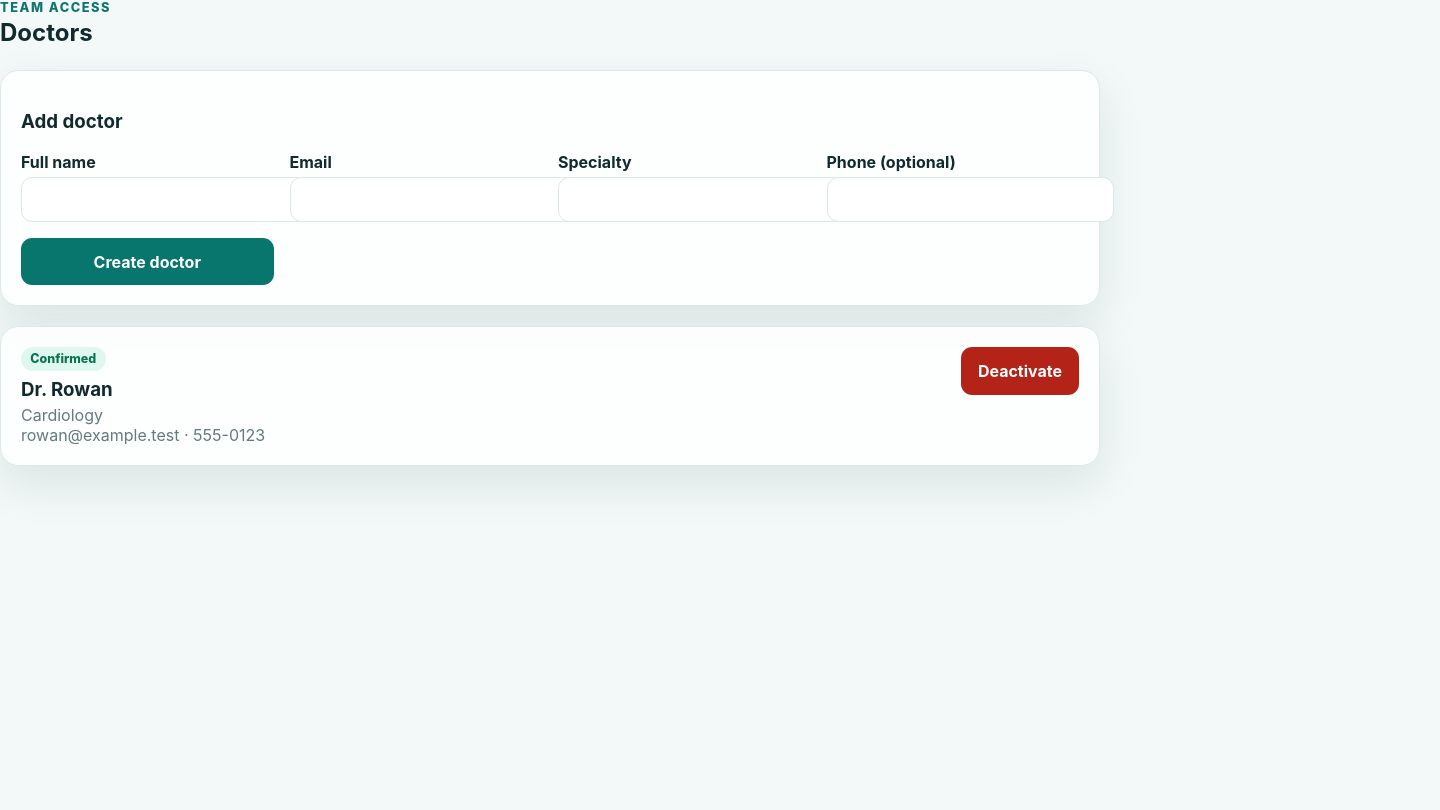
Test: doctor deactivation requires confirmation, prevents duplicates, and refreshes inactive state
Click the button "Deactivate" at [1020, 371], box [961,347,1079,395]
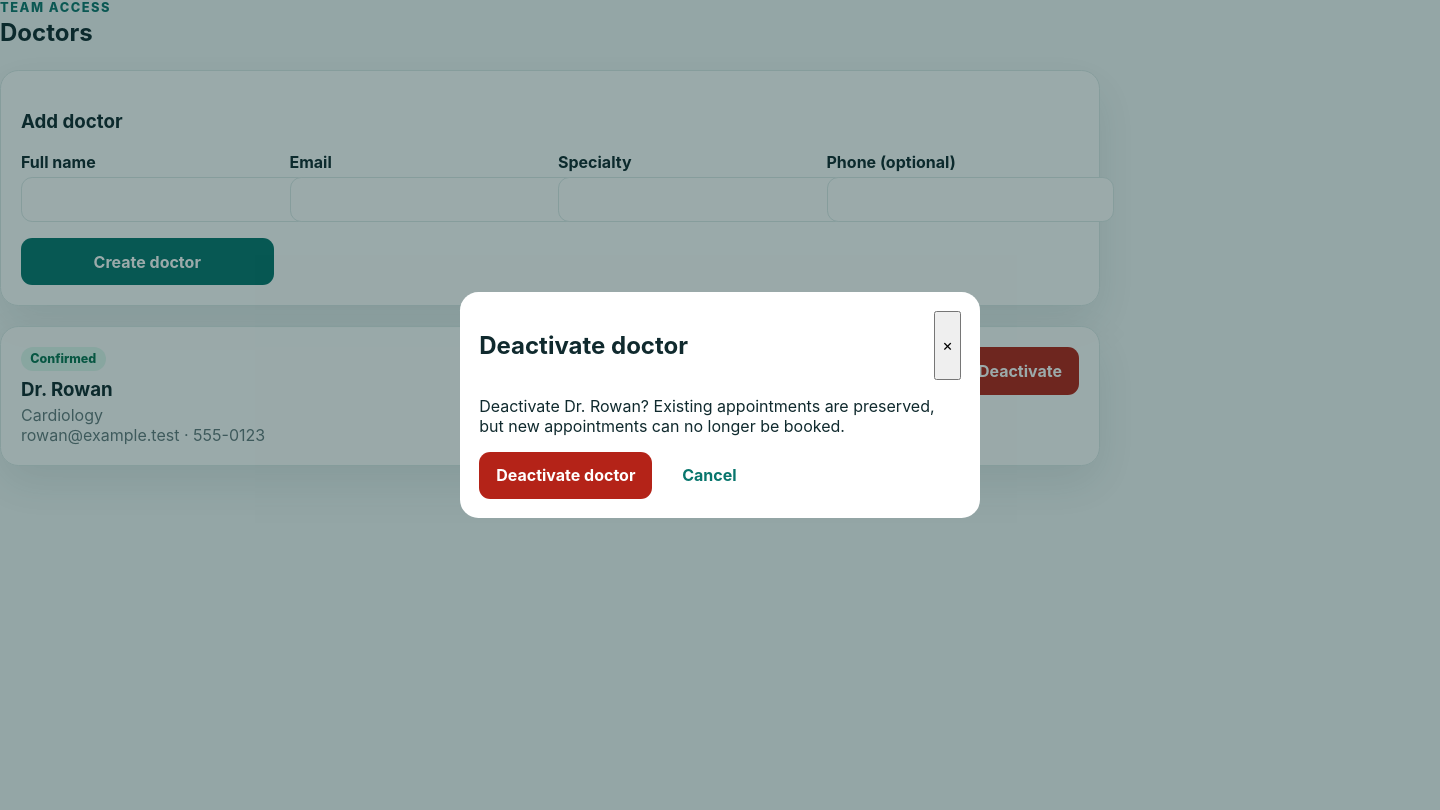
Expected: the dialog "Deactivate doctor" is shown, [460,292,980,518]
Click the button "Deactivate doctor" at [566, 475], box [479,452,652,499]
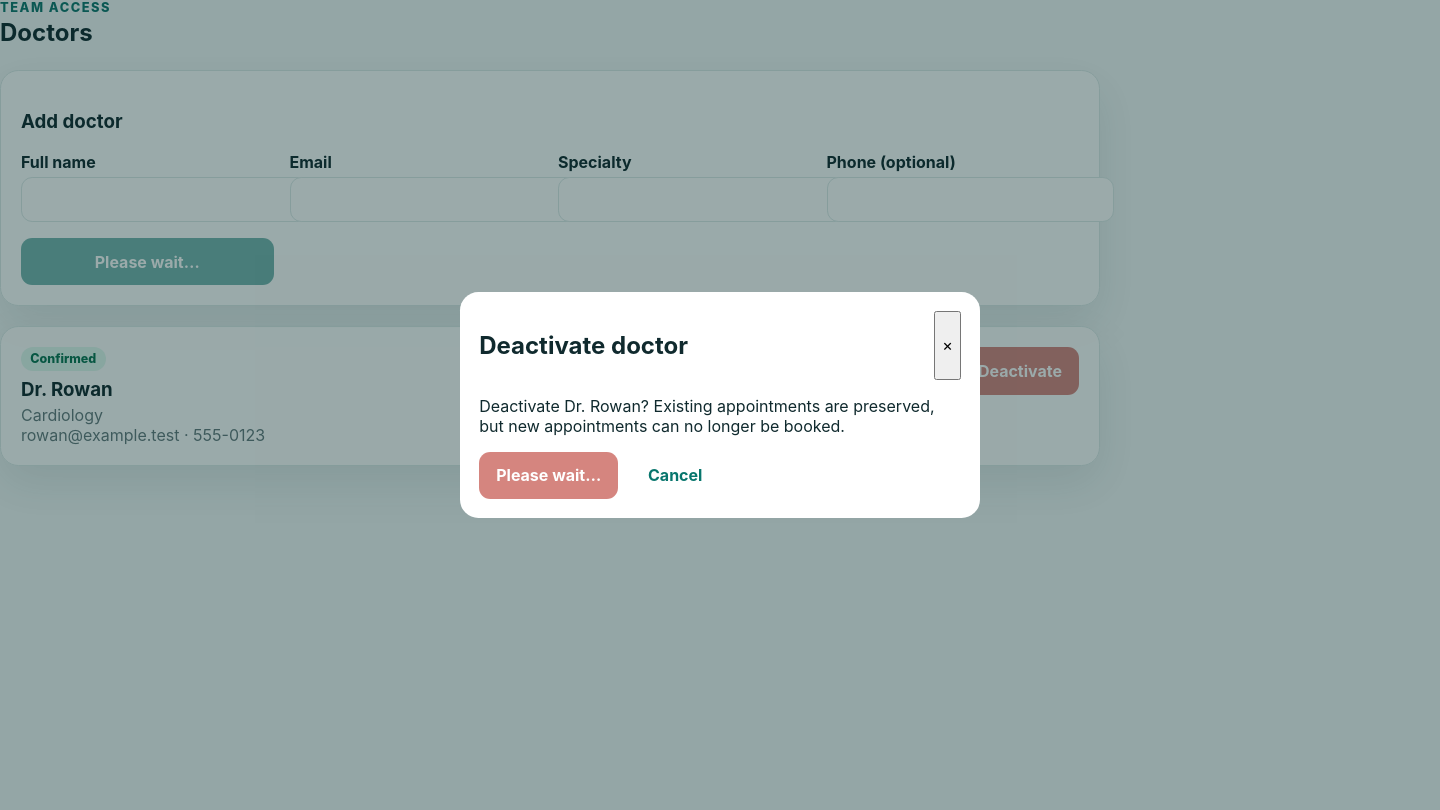
Expected: the button "Please wait…" is disabled
Click the button "Please wait…" at [549, 475], box [479,452,618,499]
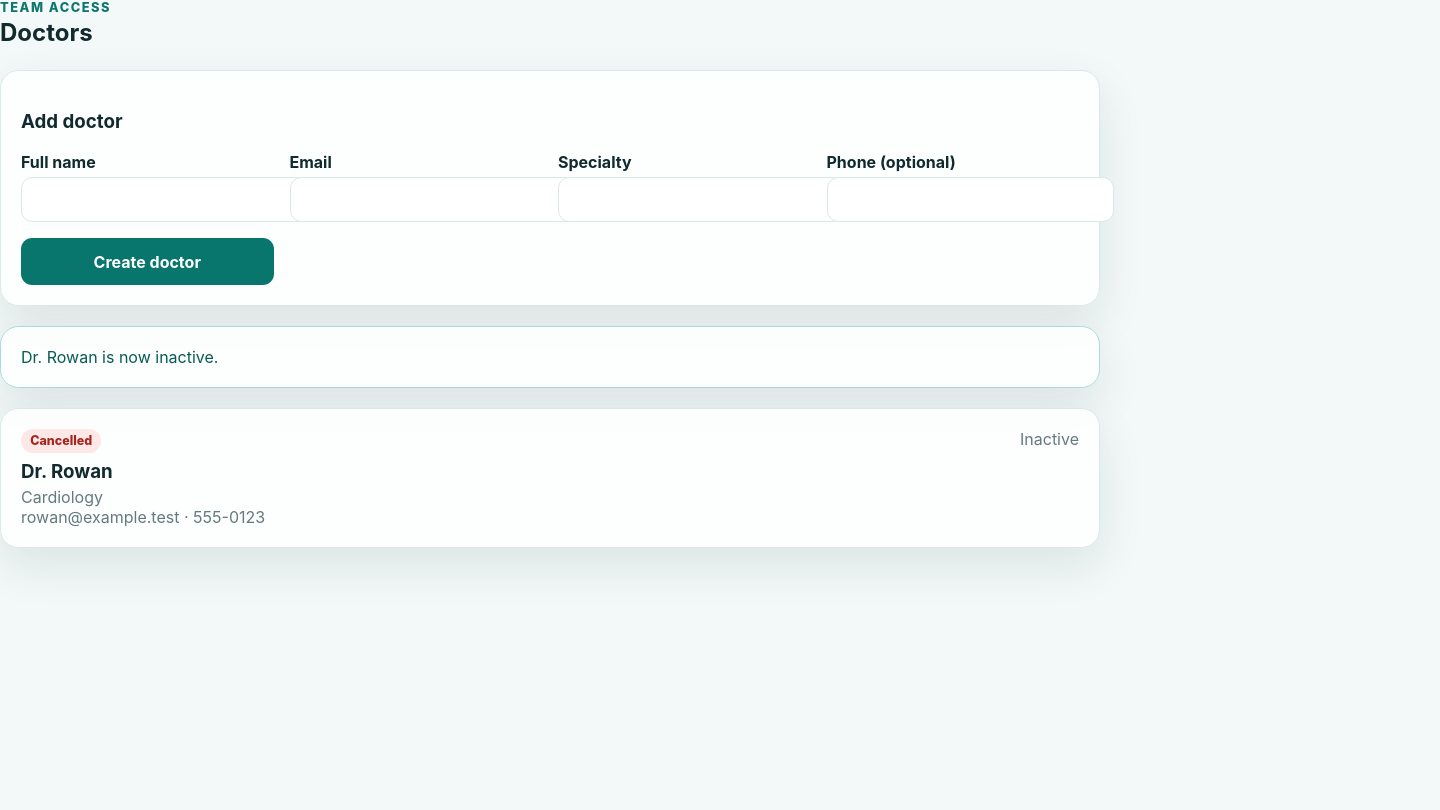
Expected: the text "Dr. Rowan is now inactive." is shown, [0,326,1100,388]
Expected: the text "Inactive" is shown, [1020,429,1079,449]
